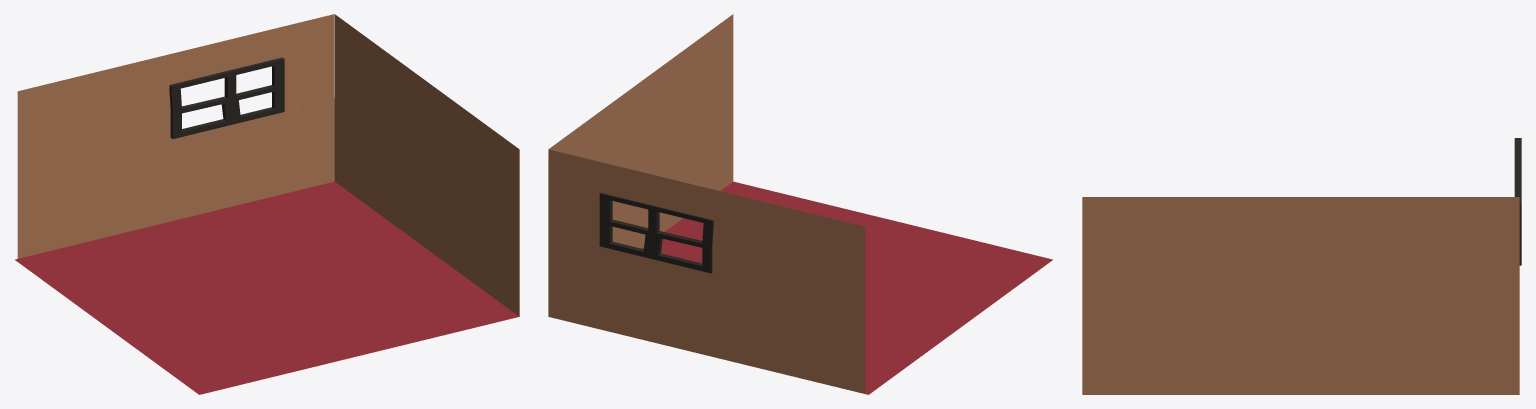
Rendered from room.gltf.
The picture shows the model from 3 angles, left to right: view 1: azimuth 30°, elevation 25°; view 2: azimuth 150°, elevation 25°; view 3: azimuth 270°, elevation 25°; orthographic projection. The views are drawn at different scales.
Parts seen in each view (by area): view 1: Plane.002, Plane, Plane.001, window frame; view 2: Plane, Plane.002, Plane.001, window frame; view 3: Plane.001, window frame.
Part boxes in pixels (x1,y1,x2,y2): Plane.002: (15,181,518,394); Plane: (17,14,334,258); Plane.001: (334,14,519,316); window frame: (169,57,284,138); Plane: (548,149,865,393); Plane.002: (642,181,1052,394); Plane.001: (548,14,733,316); window frame: (599,193,713,273); Plane.001: (1082,197,1519,394); window frame: (1514,138,1521,265).
Bounding box in the file's own units: 4 × 2 × 4.02.
Materials: 1 (1 with a texture image).
